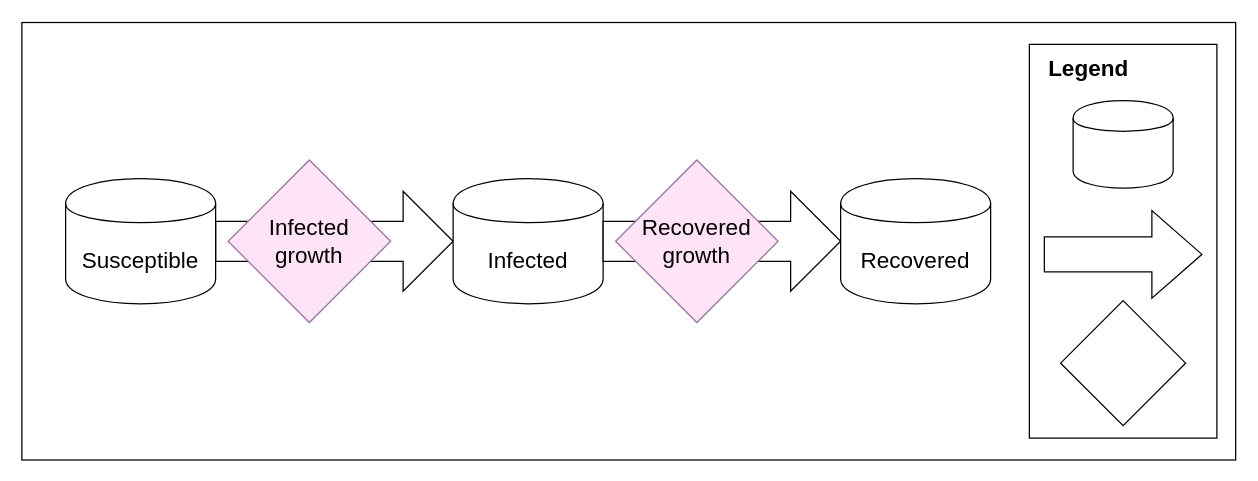
The diagram is 1258 pixels wide and 481 high, and some of its shapes have lost their labels. Each missing label, with the centre of its shape:
"Policy mechanism" goes at pixel 1122 362.
"Population flow" goes at pixel 1122 253.
"Population stock" goes at pixel 1122 143.
